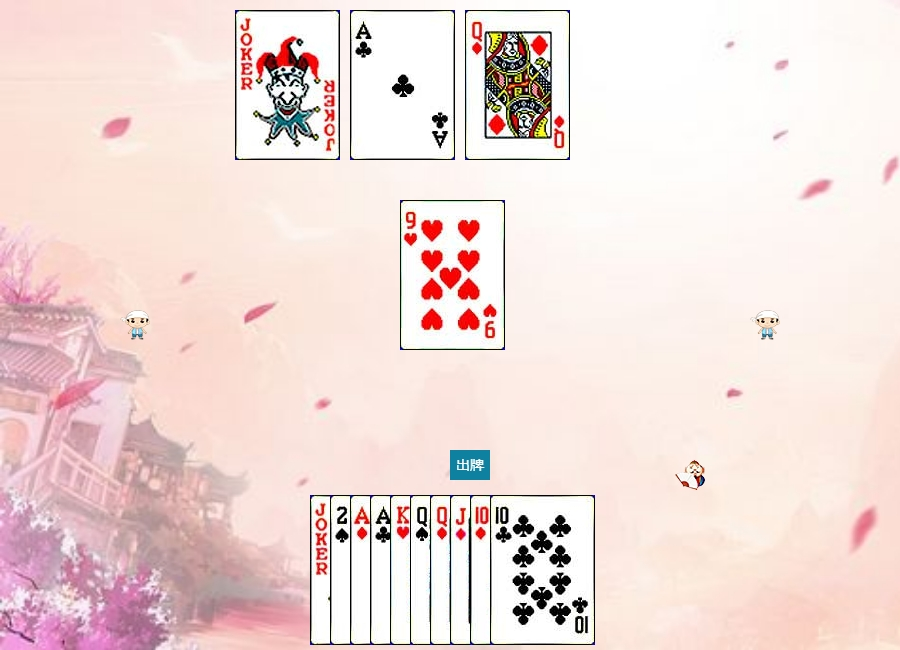10~1: (470, 495, 575, 645)
10~2: (490, 495, 595, 645)
11~1: (450, 495, 555, 645)
12~1: (465, 10, 570, 160), (430, 495, 535, 645)
12~4: (410, 495, 515, 645)
13~3: (390, 495, 495, 645)
14~1: (350, 495, 455, 645)
14~2: (350, 10, 455, 160), (370, 495, 475, 645)
15~4: (330, 495, 435, 645)
18~4: (235, 10, 340, 160), (310, 495, 415, 645)
9~3: (400, 200, 505, 350)
